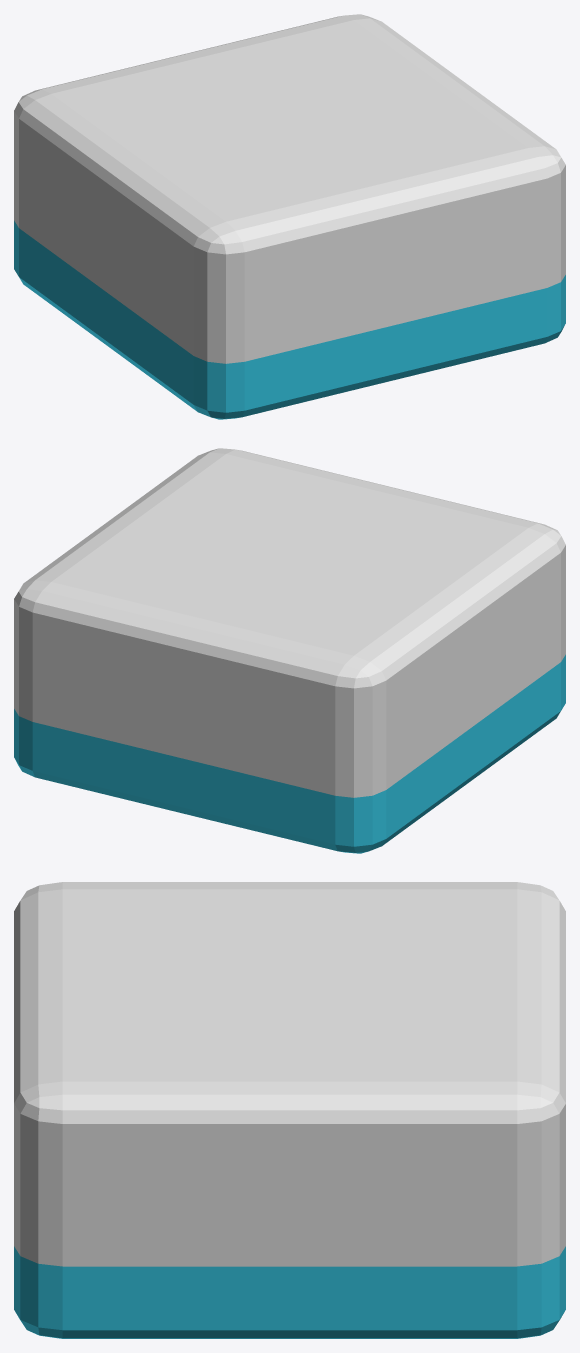
File: mahjong.glb
3 renders of one model, top to bottom at view 1: azimuth 30°, elevation 25°; view 2: azimuth 150°, elevation 25°; view 3: azimuth 270°, elevation 25°, orthographic. The views are drawn at different scales.
Parts seen in each view (by area): view 1: Cube, Card; view 2: Cube, Card; view 3: Cube, Card.
Boxes of the visible parts, bbox=[...] form: Cube: bbox=[14, 14, 565, 419]; Card: bbox=[58, 21, 521, 216]; Cube: bbox=[14, 448, 565, 853]; Card: bbox=[58, 455, 521, 650]; Cube: bbox=[14, 882, 565, 1338]; Card: bbox=[69, 889, 510, 1076].
Size of the model in its own units: 2 by 1.01 by 2.
